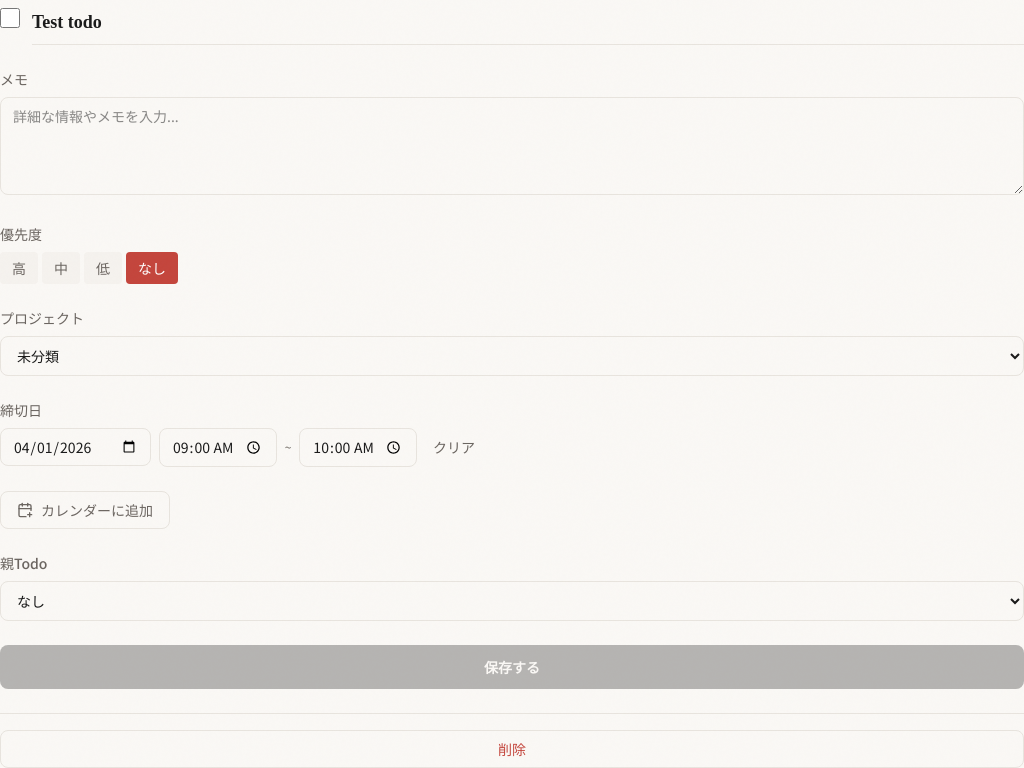
Test: TodoDetailForm - time inputs › should clear time when dueDate is cleared
# Clear dueDate
What coordinates should you click on to do the following:
click the button "クリア"
I would click on:
 (454, 447)
Its box is x1=425 y1=433 x2=483 y2=461.
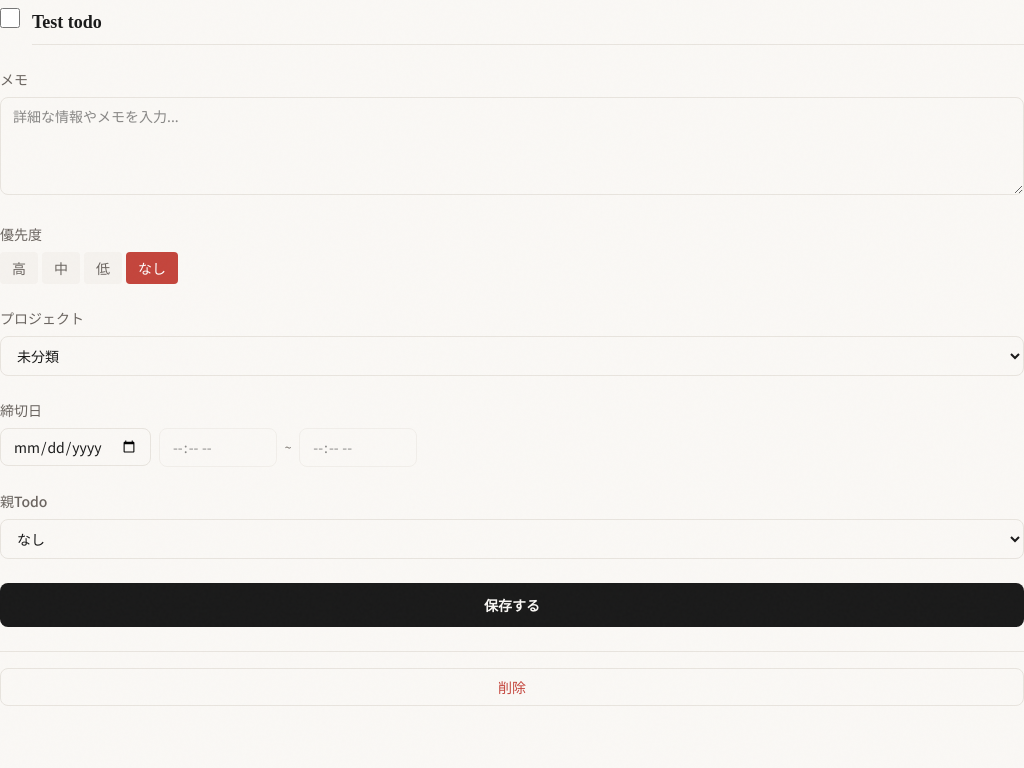
Now the time field named "開始時間" is empty, box x1=159 y1=428 x2=277 y2=467
Now the time field named "終了時間" is empty, box x1=299 y1=428 x2=417 y2=467
